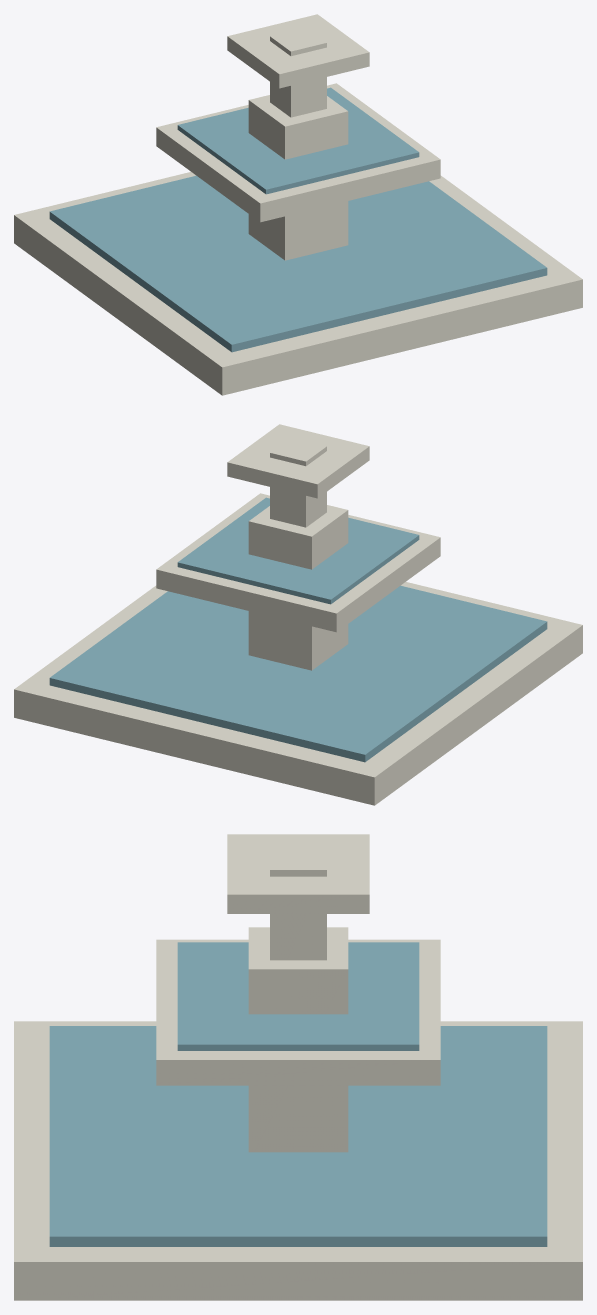
File: voxel-city-districts-tiered-fountain-1e992162__24857.glb
3 views of the same model, one above another, from view 1: azimuth 30°, elevation 25°; view 2: azimuth 150°, elevation 25°; view 3: azimuth 270°, elevation 25° (orthographic). The views are drawn at different scales.
Parts seen in each view (by area): view 1: tiered-fountain-glass, tiered-fountain-concrete; view 2: tiered-fountain-glass, tiered-fountain-concrete; view 3: tiered-fountain-glass, tiered-fountain-concrete.
Part boxes in pixels (<box>): tiered-fountain-glass: <box>49,87,547,352</box>; tiered-fountain-concrete: <box>14,14,582,395</box>; tiered-fountain-glass: <box>49,497,547,762</box>; tiered-fountain-concrete: <box>14,424,582,805</box>; tiered-fountain-glass: <box>49,942,547,1246</box>; tiered-fountain-concrete: <box>14,834,582,1300</box>.
Bounding box in the file's own units: 4 × 2.5 × 4.
